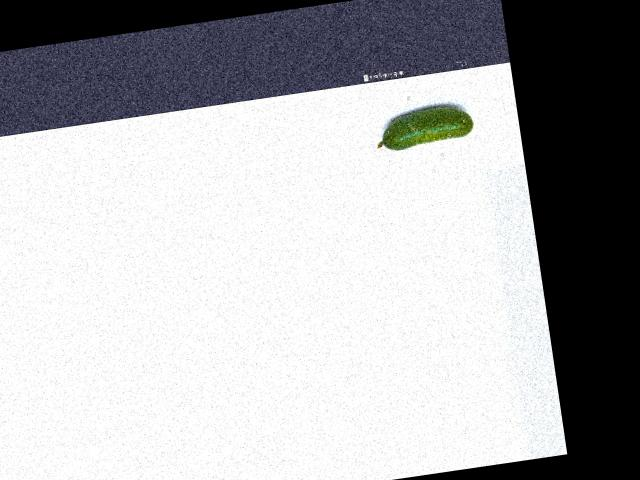cucumber: (373, 102, 476, 153)
